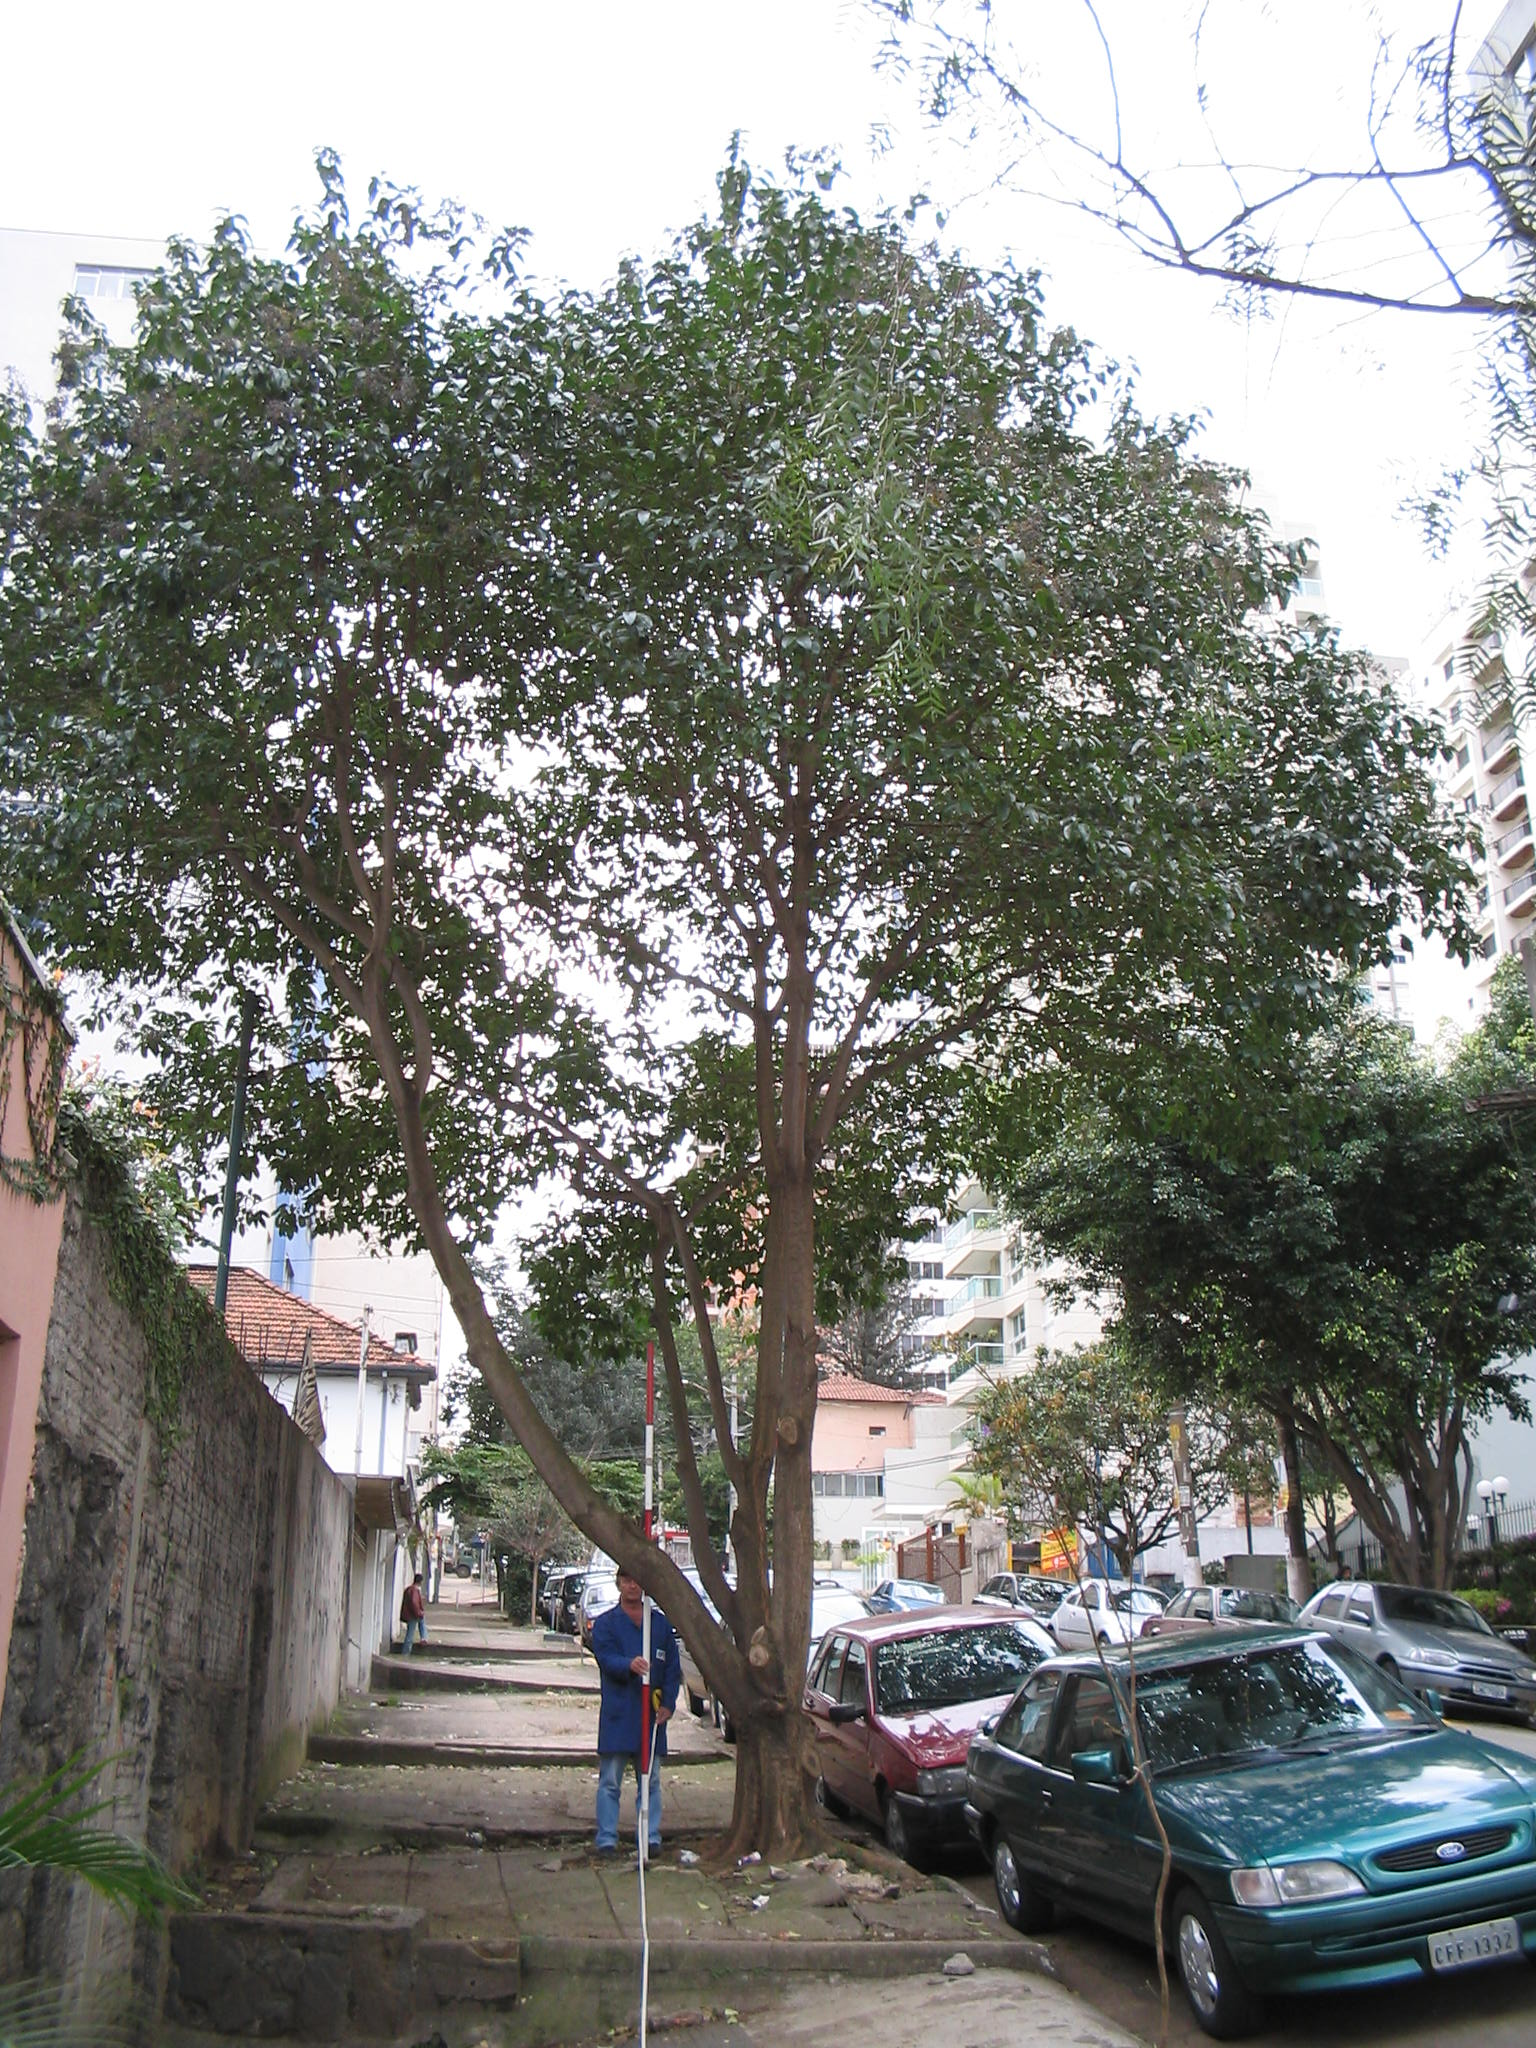crown: (10, 140, 1499, 1124)
stem: (682, 1629, 866, 1861)
stick: (603, 1347, 686, 1864)
tree: (2, 140, 1494, 1861), (986, 1032, 1536, 1580)
